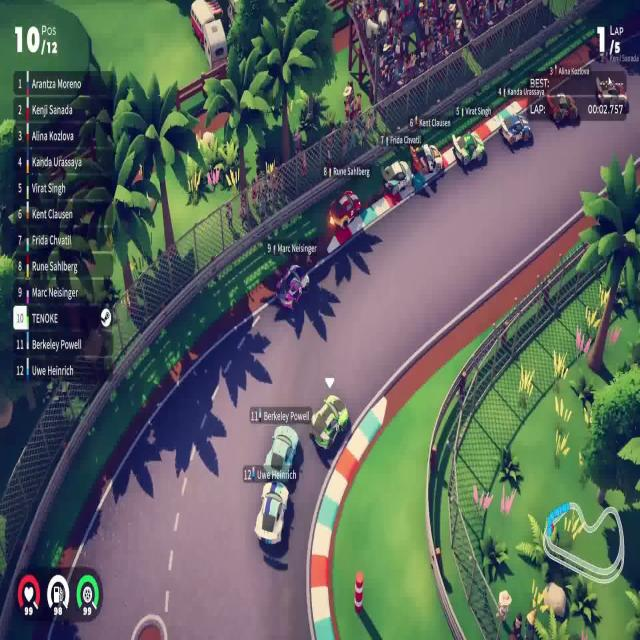car: (253, 479, 290, 547), (309, 394, 350, 452), (263, 423, 299, 480), (275, 262, 310, 312), (328, 188, 362, 230), (451, 129, 485, 168), (410, 142, 444, 180), (499, 114, 532, 148), (380, 159, 412, 194)
